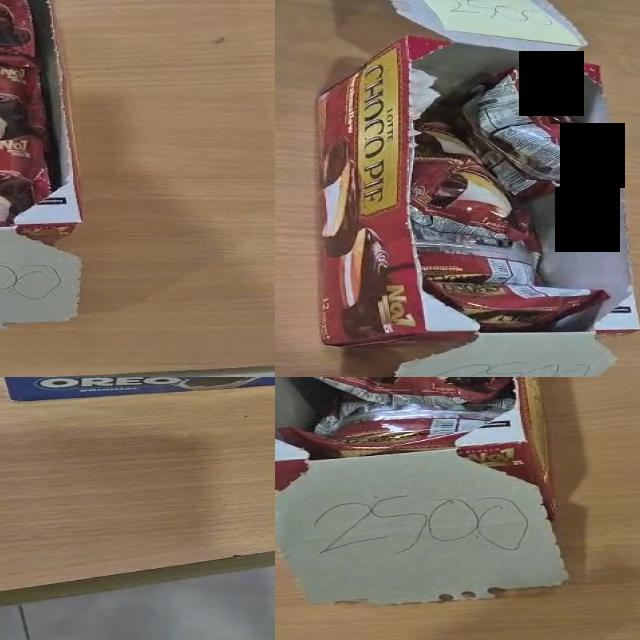Chocopie: (464, 66, 604, 202), (410, 125, 538, 248), (284, 405, 498, 457), (424, 278, 608, 332), (416, 236, 540, 286), (311, 377, 510, 407), (316, 377, 509, 405), (0, 135, 53, 231), (0, 64, 51, 152)
